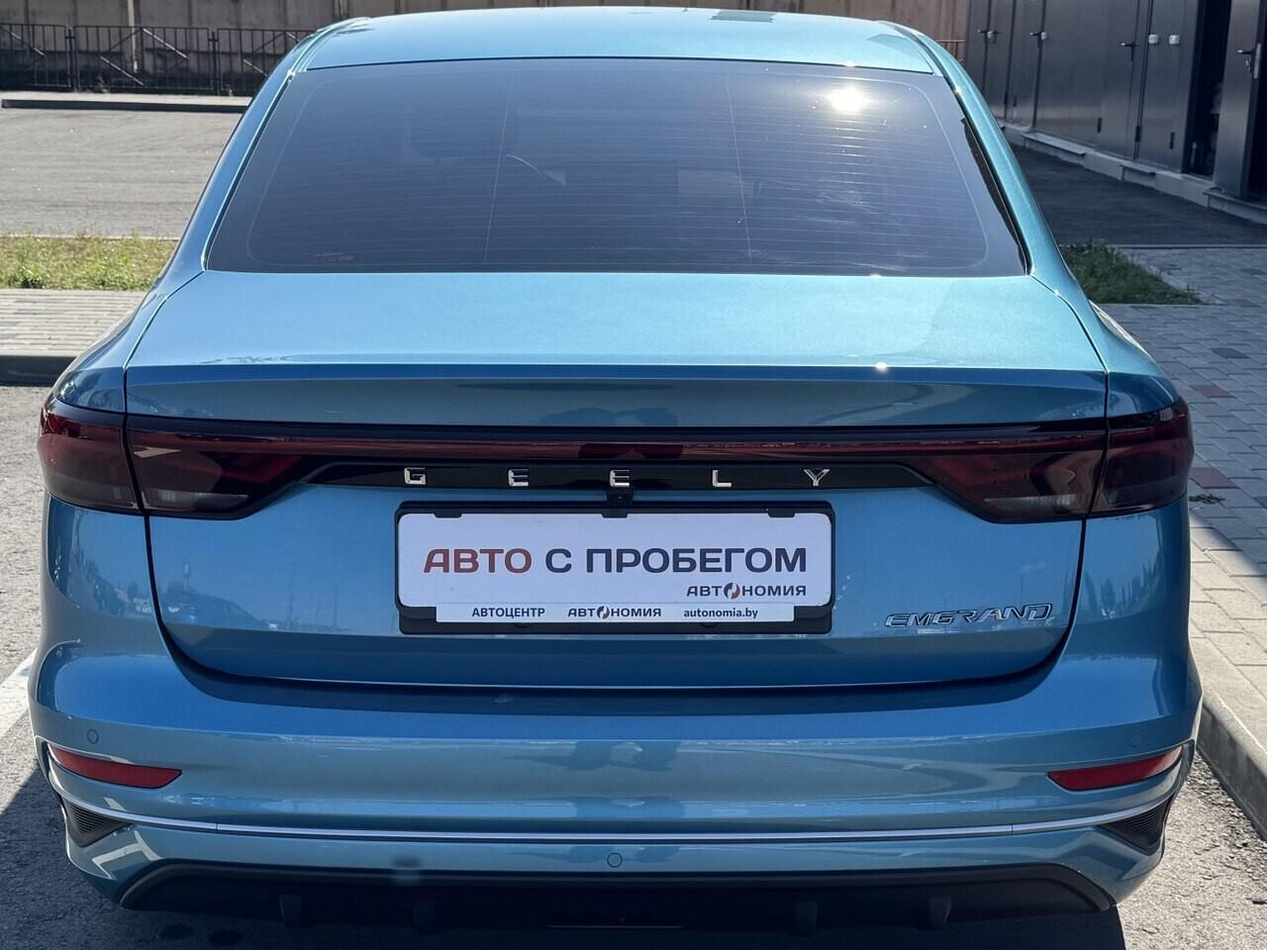Emgrand_2021: (35, 0, 1201, 933)
